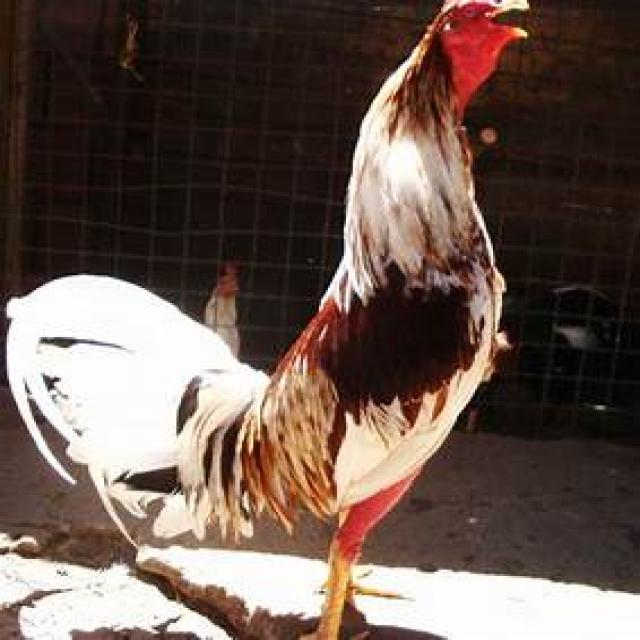animal: (2, 0, 534, 638)
